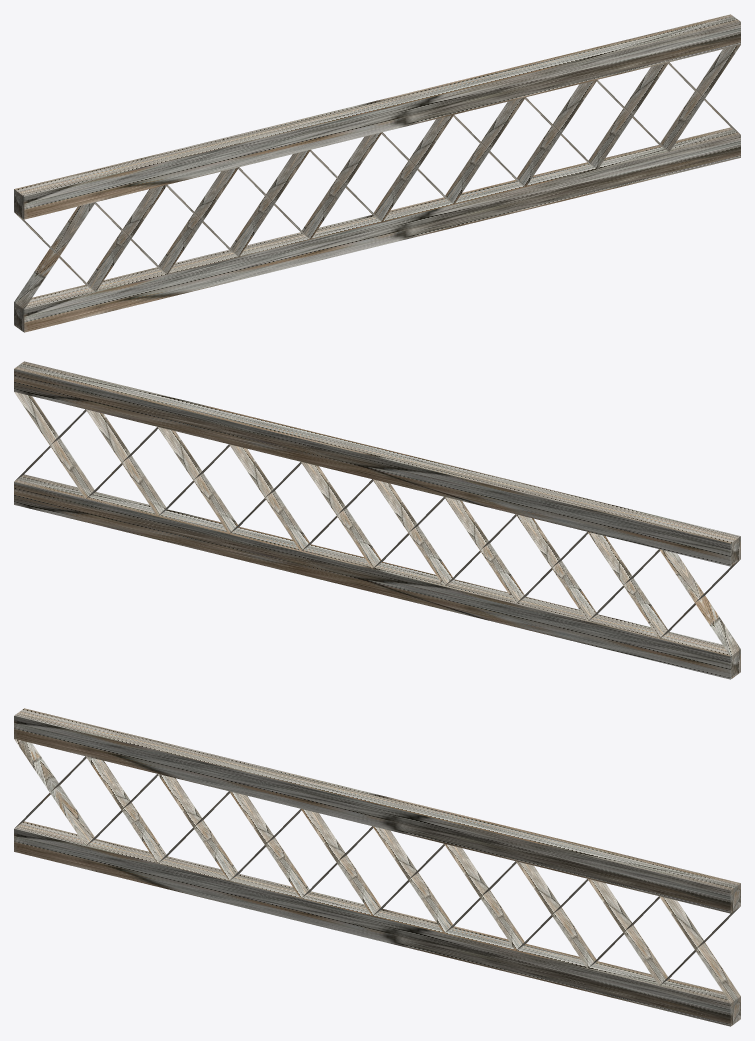
File: top_wall_design.fbx
3 views of the same model, one above another, from view 1: azimuth 30°, elevation 25°; view 2: azimuth 150°, elevation 25°; view 3: azimuth 330°, elevation 25° (orthographic).
Parts seen in each view (by area): view 1: top_design; view 2: top_design; view 3: top_design.
Part boxes in pixels (x1,y1,x2,y2): top_design: (14,14,740,332); top_design: (14,361,740,679); top_design: (14,708,740,1026).
Size of the model in its own units: 293 by 53.06 by 7.24.
Materials: 1 (1 with a texture image).
